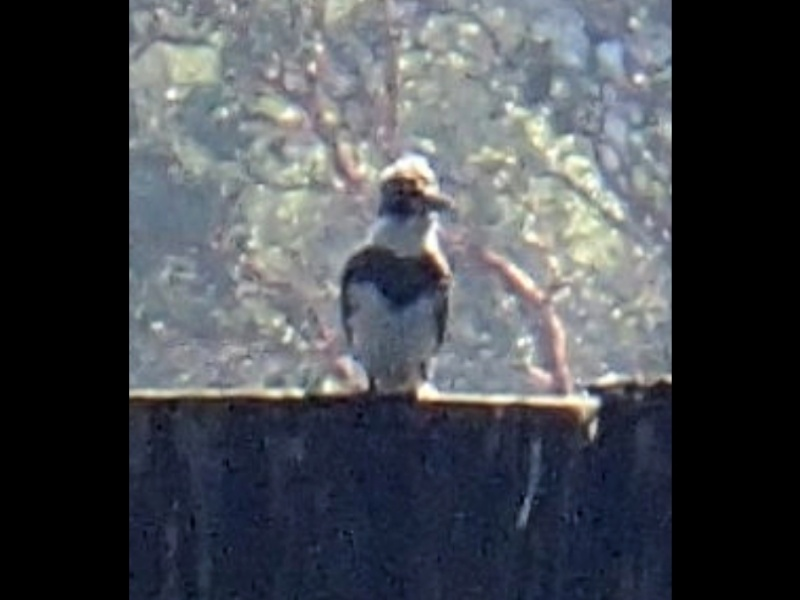kingfisher: (337, 150, 456, 402)
